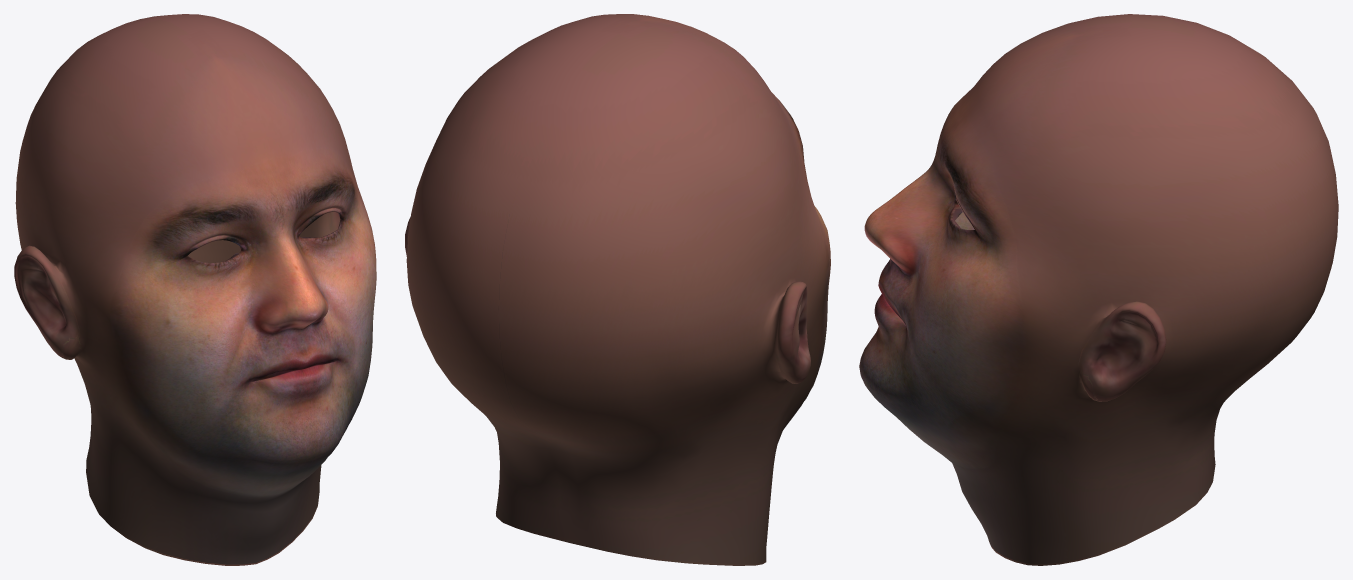
3 views of the same model, side by side, from view 1: azimuth 30°, elevation 25°; view 2: azimuth 150°, elevation 25°; view 3: azimuth 270°, elevation 25° (orthographic). The views are drawn at different scales.
Parts seen in each view (by area): view 1: FaceGen; view 2: FaceGen; view 3: FaceGen.
Part boxes in pixels (x1,y1,x2,y2): FaceGen: [14, 14, 376, 565]; FaceGen: [405, 14, 830, 565]; FaceGen: [859, 14, 1338, 565].
Bounding box in the file's own units: 202 × 280 × 237.
1 material, 1 textured.
